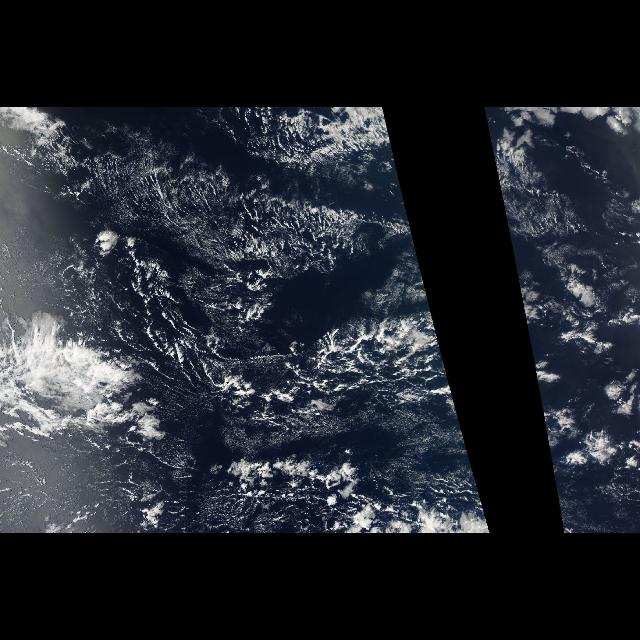Gravel: (102, 158, 454, 478)
Sugar: (4, 135, 413, 277)
